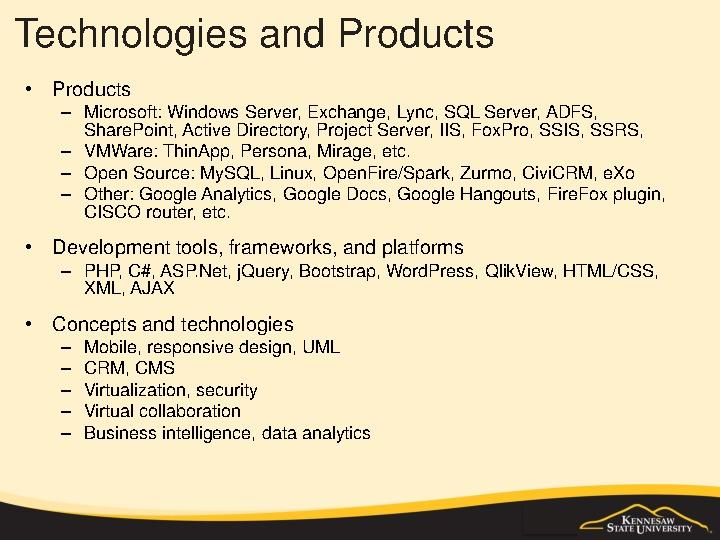paragraph: (5, 63, 700, 456)
title: (5, 7, 511, 60)
